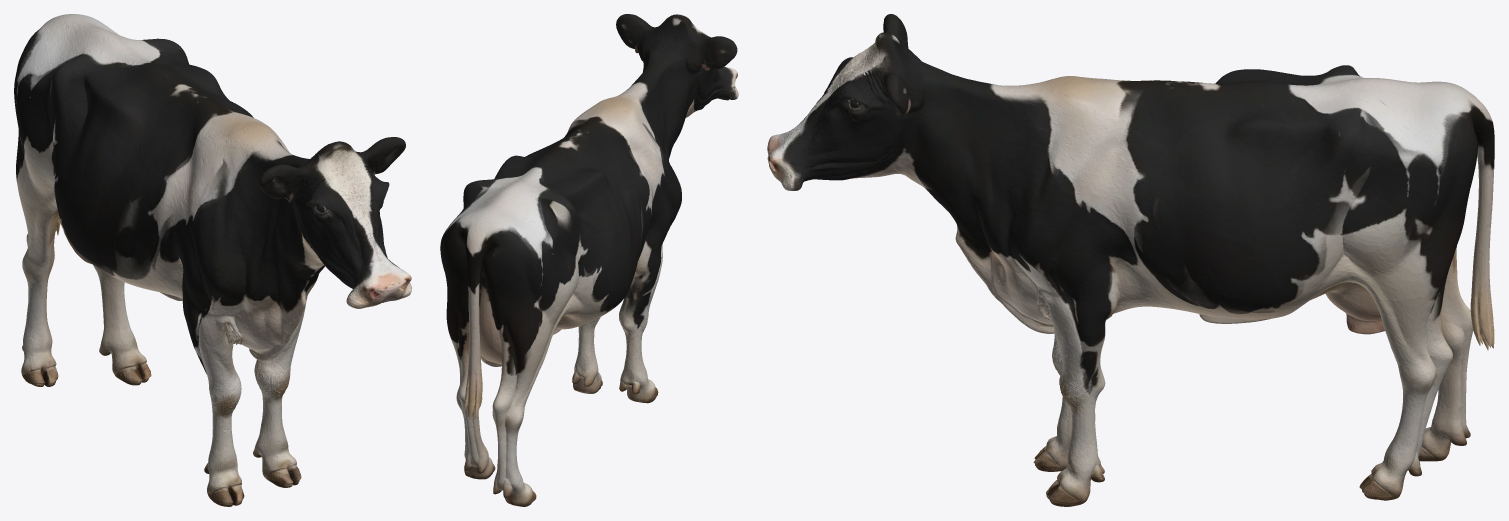
Rendered from Cow_mobile.glb.
3 views of the same model, side by side, from view 1: azimuth 30°, elevation 25°; view 2: azimuth 150°, elevation 25°; view 3: azimuth 270°, elevation 25° (orthographic). The views are drawn at different scales.
Visible parts, largest first — view 1: tmpdv56m20u.obj; view 2: tmpdv56m20u.obj; view 3: tmpdv56m20u.obj.
Boxes of the visible parts, left/top/right/bottom form: tmpdv56m20u.obj: left=14, top=14, right=411, bottom=506; tmpdv56m20u.obj: left=440, top=14, right=738, bottom=506; tmpdv56m20u.obj: left=767, top=14, right=1494, bottom=506.
Size of the model in its own units: 0.5386 by 1.19 by 1.74.
1 material, 1 textured.
